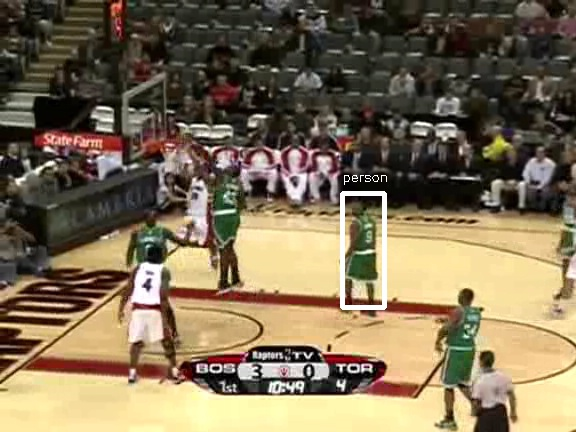person: (349, 210, 383, 291), (348, 210, 382, 291), (350, 210, 384, 291), (349, 209, 383, 290), (349, 211, 383, 292)
target_negative: (79, 218, 573, 403), (19, 46, 390, 209), (450, 237, 554, 315), (207, 277, 544, 288), (411, 28, 416, 386), (454, 280, 457, 322)
